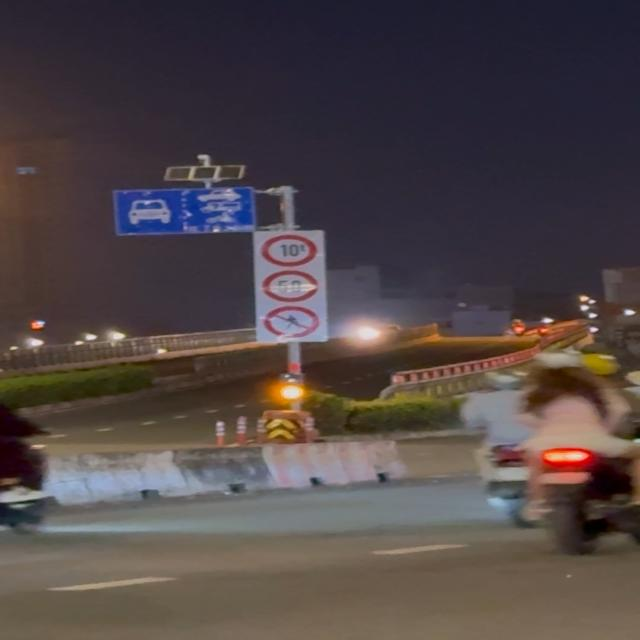Bien bao cam nguoi di bo: (260, 304, 324, 339)
Bien bao toc do toi da cho phep: (259, 268, 320, 302)
